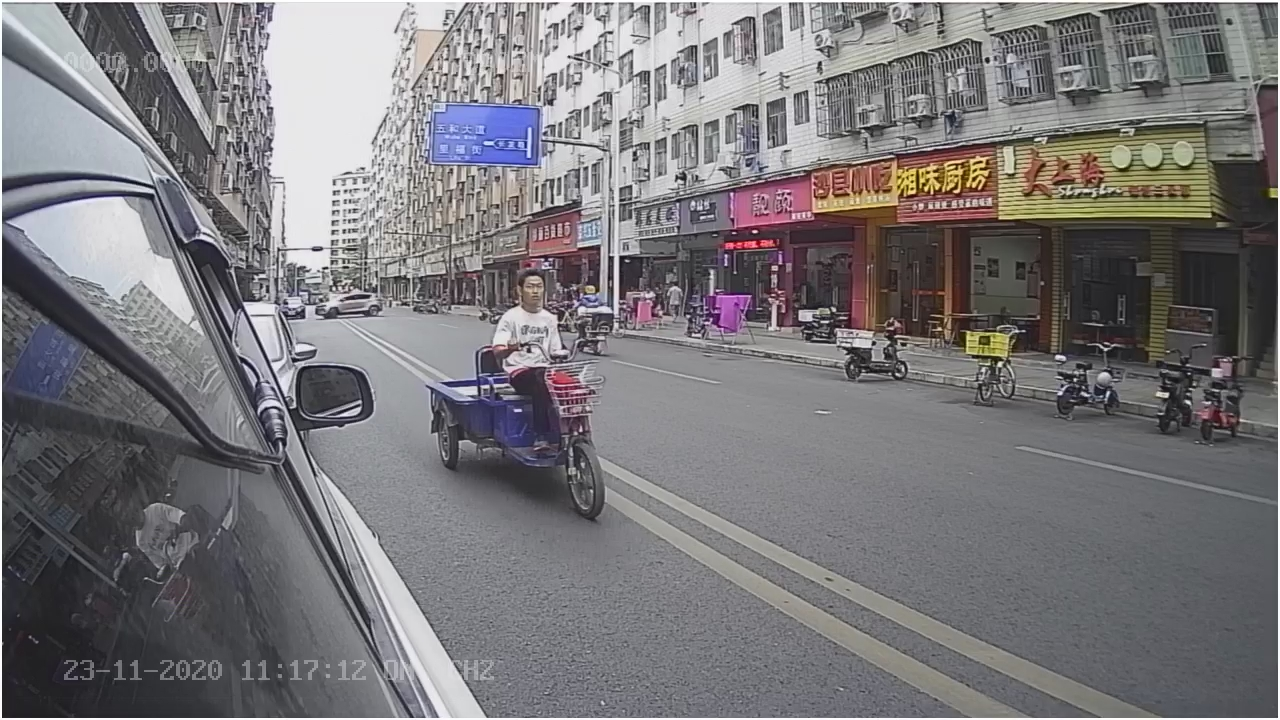person: (483, 267, 575, 344)
